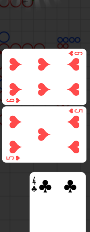10H: (67, 51, 83, 58)
5H: (5, 155, 21, 162)
